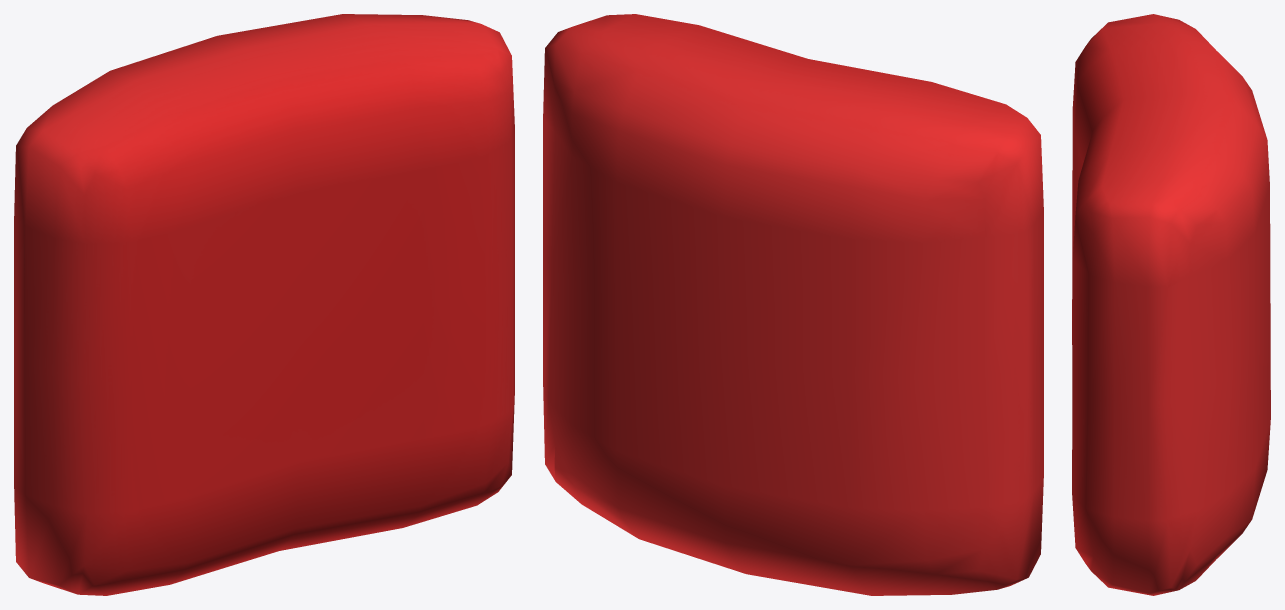
Rendered from skin04_balo.fbx.
The picture shows the model from 3 angles, left to right: view 1: azimuth 30°, elevation 25°; view 2: azimuth 150°, elevation 25°; view 3: azimuth 270°, elevation 25°; orthographic projection. The views are drawn at different scales.
Parts seen in each view (by area): view 1: polySurface3; view 2: polySurface3; view 3: polySurface3.
Boxes of the visible parts, x1=… form: polySurface3: x1=14, y1=14, x2=514, y2=595; polySurface3: x1=543, y1=14, x2=1043, y2=595; polySurface3: x1=1072, y1=14, x2=1270, y2=595.
Bounding box in the file's own units: 2.03 × 1.96 × 0.8355.
1 material, 1 textured.
